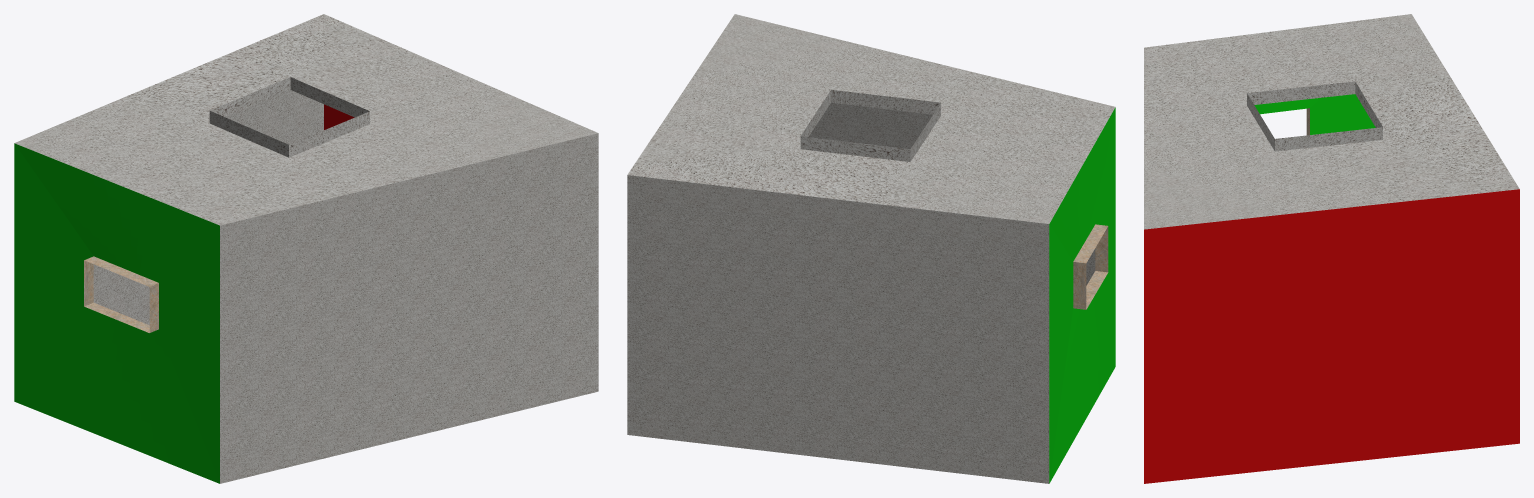
Rendered from RippleWalls2.fbx.
3 views of the same model, side by side, from view 1: azimuth 30°, elevation 25°; view 2: azimuth 150°, elevation 25°; view 3: azimuth 270°, elevation 25° (orthographic). The views are drawn at different scales.
Visible parts, largest first — view 1: LeftWall, Ceiling, BackWall, RightWall; view 2: RightWall, Ceiling, BackWall, LeftWall; view 3: Front, Ceiling, BackWall.
Boxes of the visible parts, x1=… form: LeftWall: x1=220, y1=133, x2=598, y2=483; Ceiling: x1=14, y1=14, x2=598, y2=225; BackWall: x1=14, y1=143, x2=219, y2=483; RightWall: x1=93, y1=90, x2=323, y2=325; RightWall: x1=627, y1=175, x2=1049, y2=483; Ceiling: x1=627, y1=14, x2=1115, y2=223; BackWall: x1=1049, y1=107, x2=1115, y2=483; LeftWall: x1=808, y1=102, x2=1095, y2=285; Front: x1=1144, y1=189, x2=1519, y2=483; Ceiling: x1=1144, y1=14, x2=1519, y2=229; BackWall: x1=1254, y1=94, x2=1375, y2=135.
Bounding box in the file's own units: 456 × 264 × 336.
